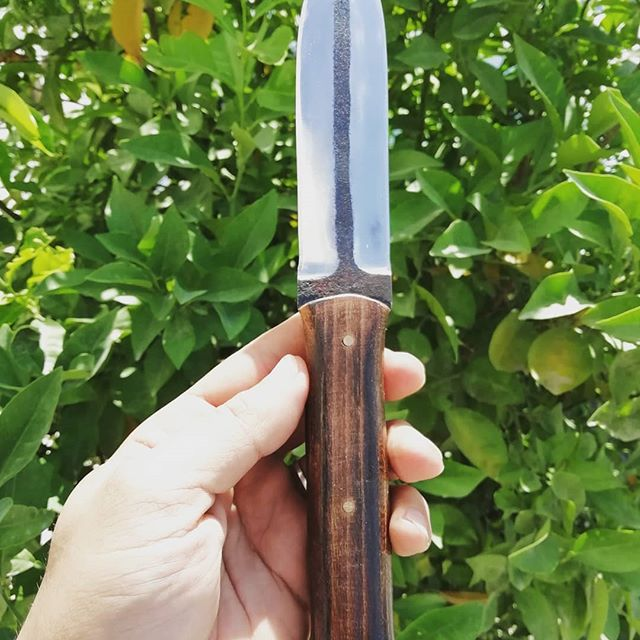knife: (296, 1, 397, 639)
